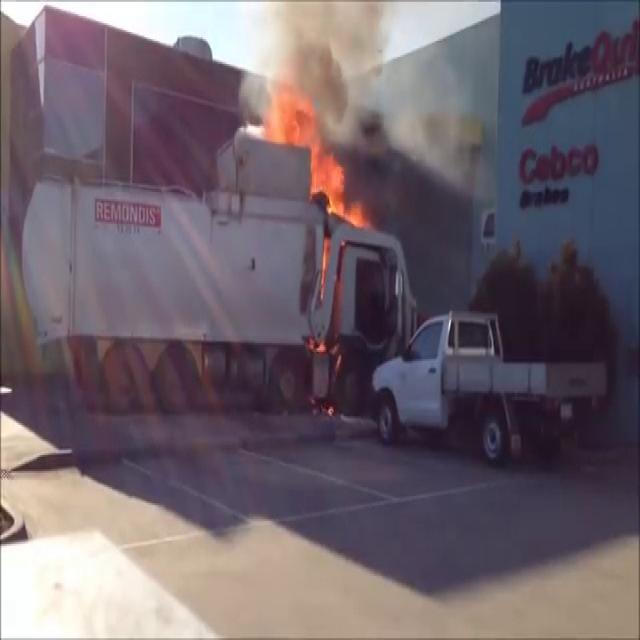Fire: (307, 143, 367, 229), (250, 81, 318, 150)
Smoke: (253, 0, 417, 140)
